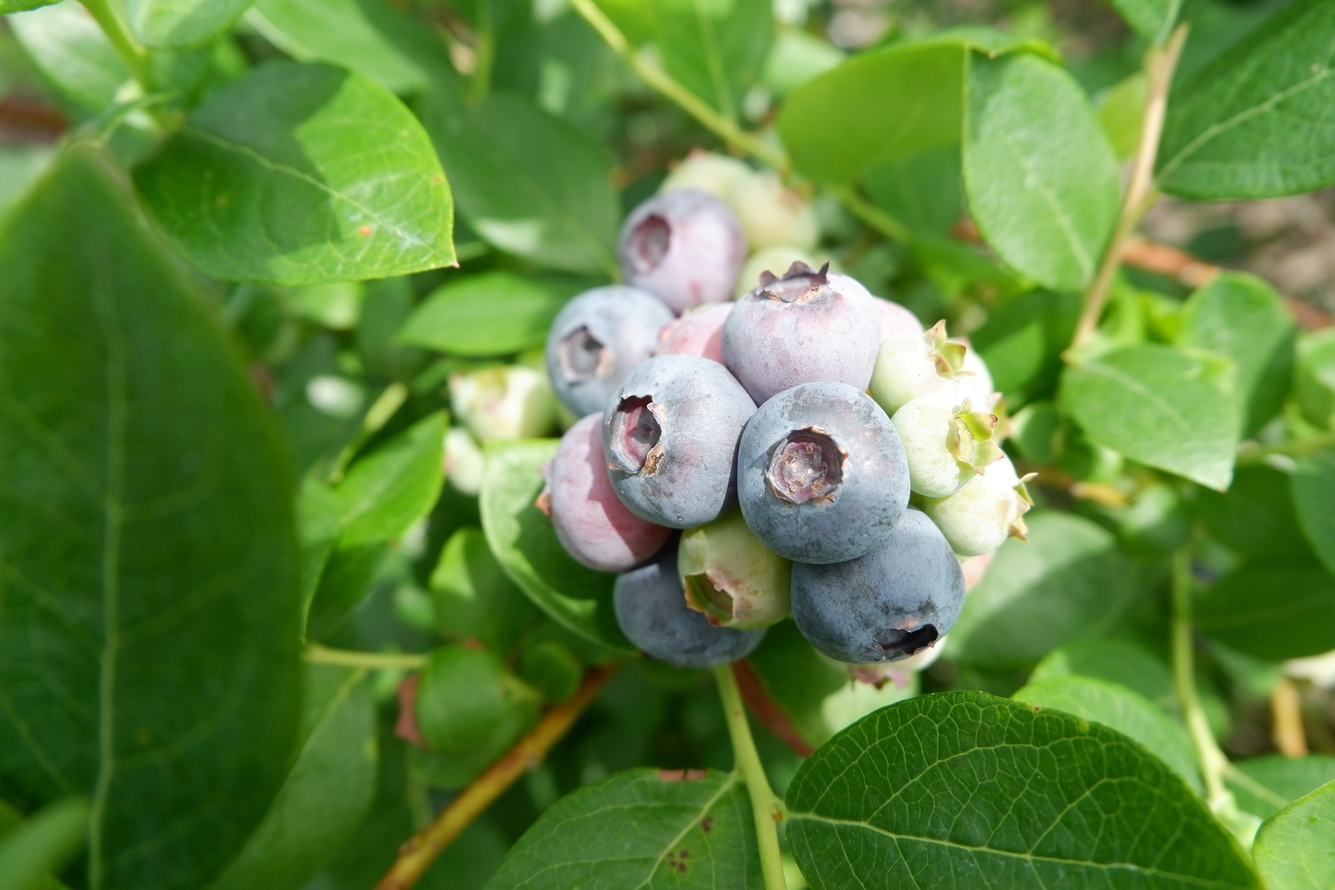Immature: (721, 267, 875, 400), (545, 412, 671, 569), (620, 189, 744, 310), (679, 503, 791, 627), (873, 326, 992, 412), (894, 401, 1002, 495), (924, 459, 1029, 554), (734, 170, 815, 252), (847, 635, 948, 688), (661, 148, 750, 202), (733, 248, 822, 300), (660, 302, 731, 366), (874, 300, 921, 339)
Mature: (736, 383, 905, 563), (793, 512, 959, 664), (608, 356, 750, 524), (616, 545, 760, 666), (546, 288, 668, 413)
